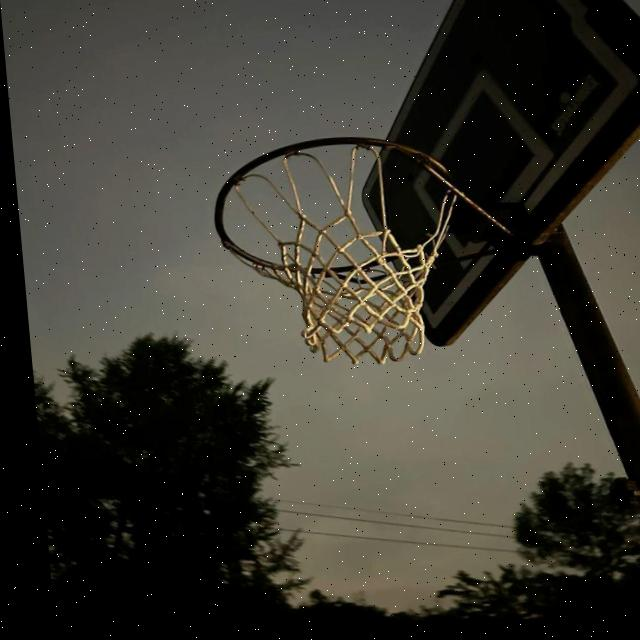hoop: (180, 121, 539, 391)
